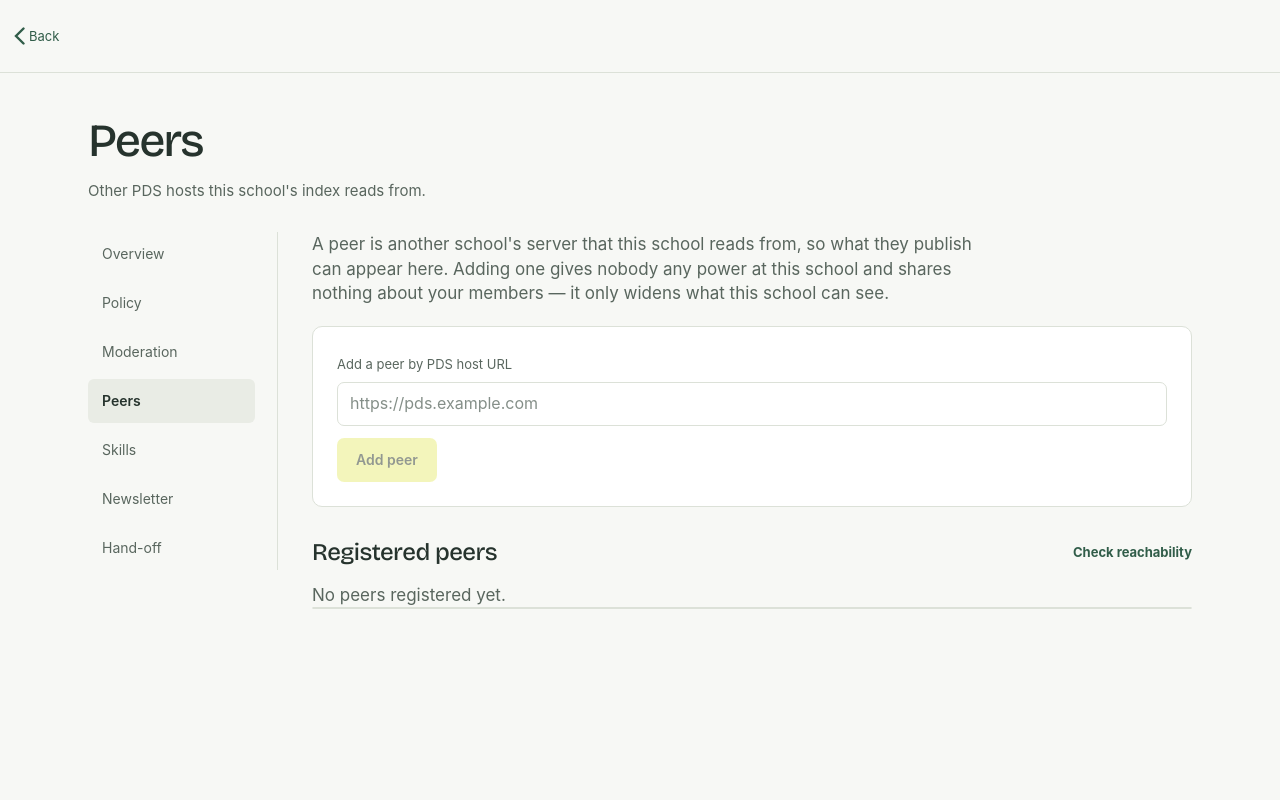
it: PeersScreen › maps the server's 400 InvalidRequest to a specific sentence, never the generic failure
Expected: the text "No peers registered yet." is shown, [312,585,506,605]
Type "https://not a valid url" into the field with placeholder "https://pds.example.com".
click(752, 404); type("https://not a valid url")  # box [337,382,1167,426]
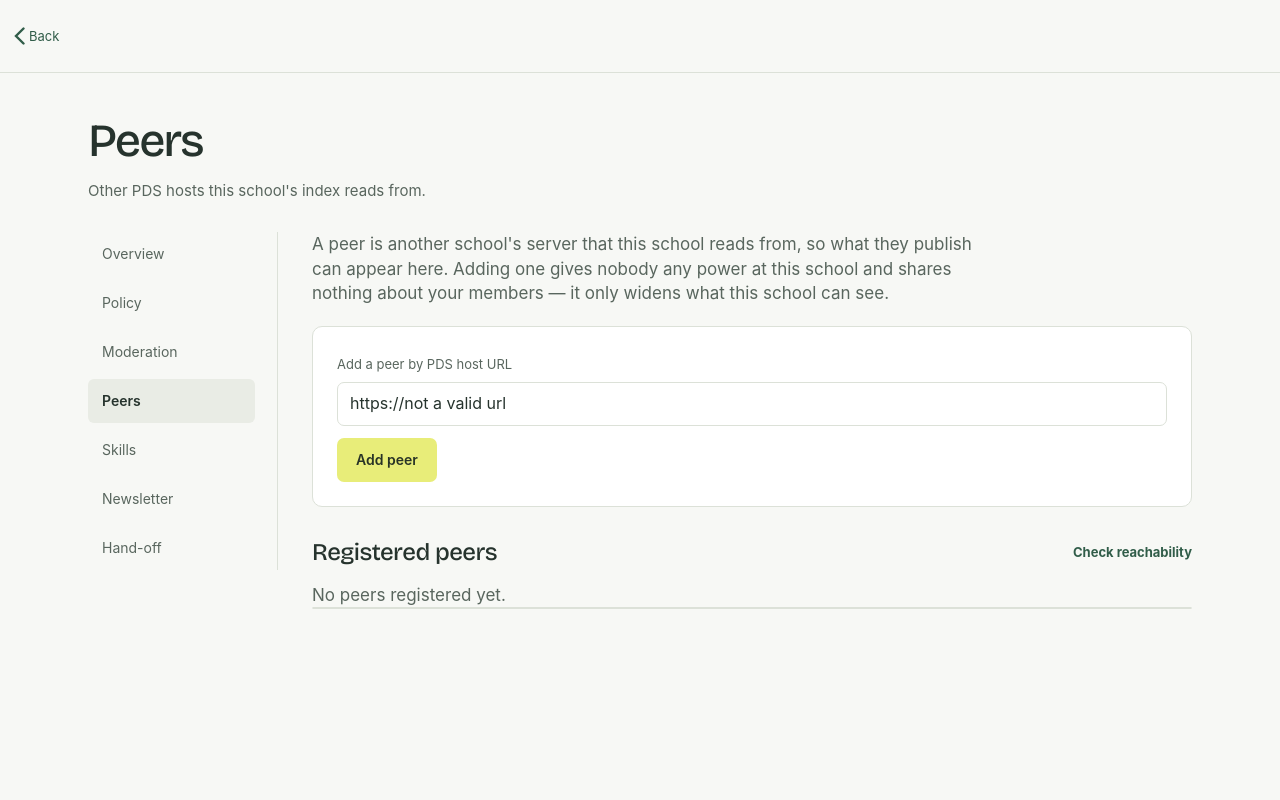
Click the button "Add peer".
click(387, 460)  # box [337,438,437,482]
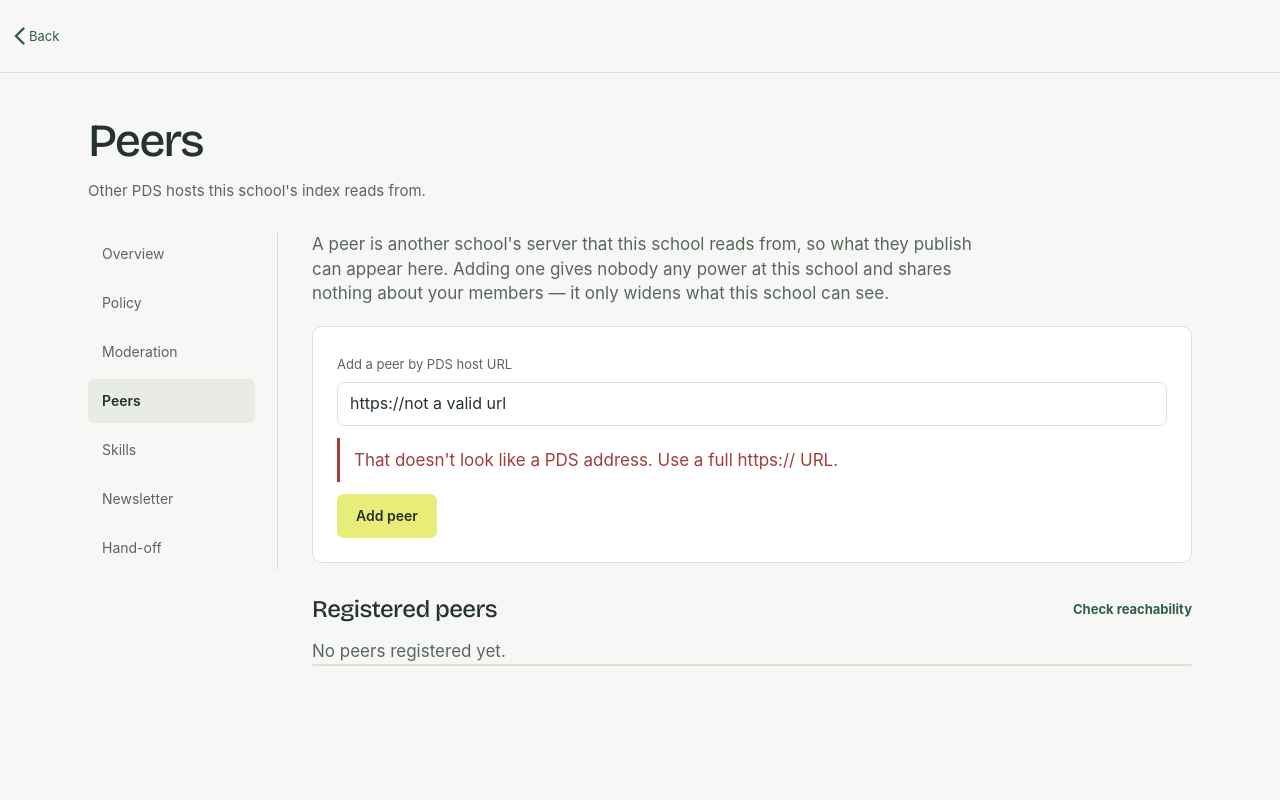
Expected: the text "That doesn't look like a PDS address. Use a full https:// URL." is shown, [337,438,1167,482]
